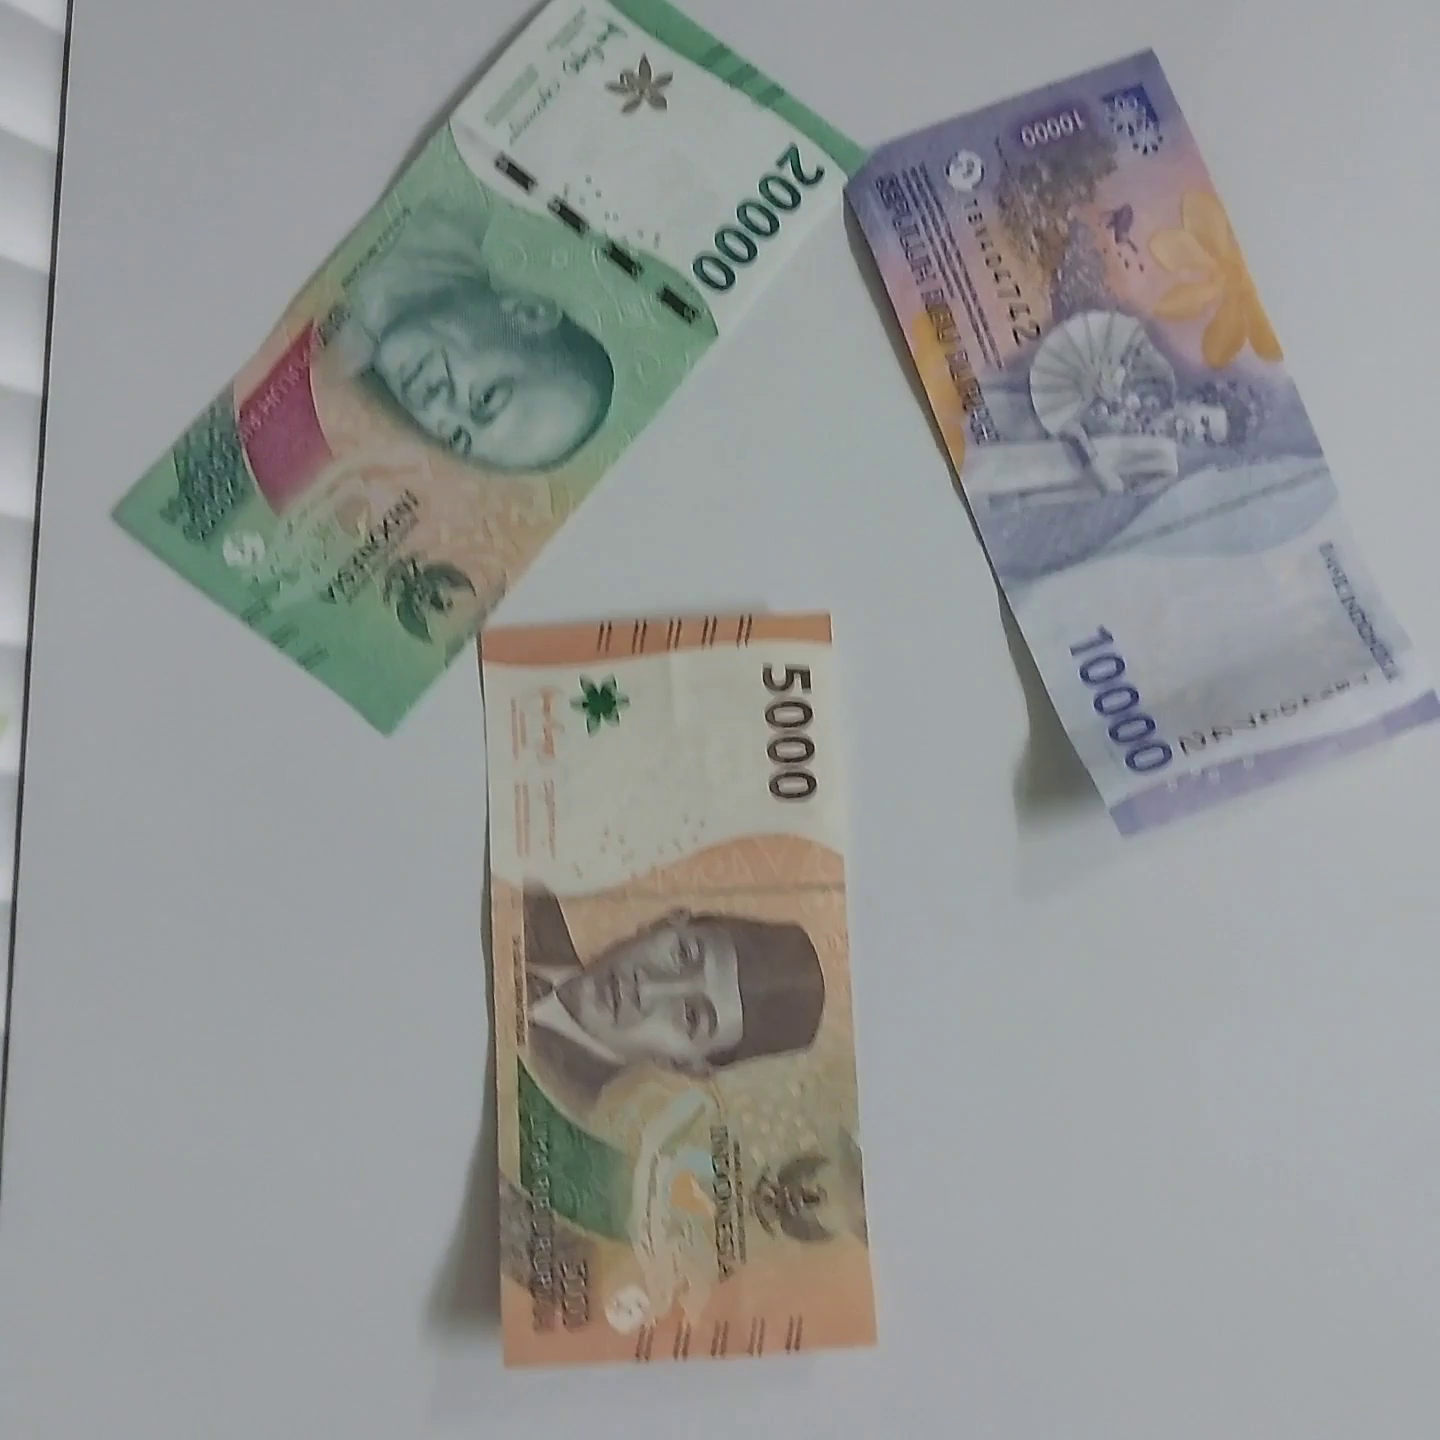10k: (825, 116, 1246, 884)
20k: (98, 0, 880, 746), (509, 0, 942, 711), (371, 1162, 377, 1163)
5k: (458, 593, 914, 1381)
